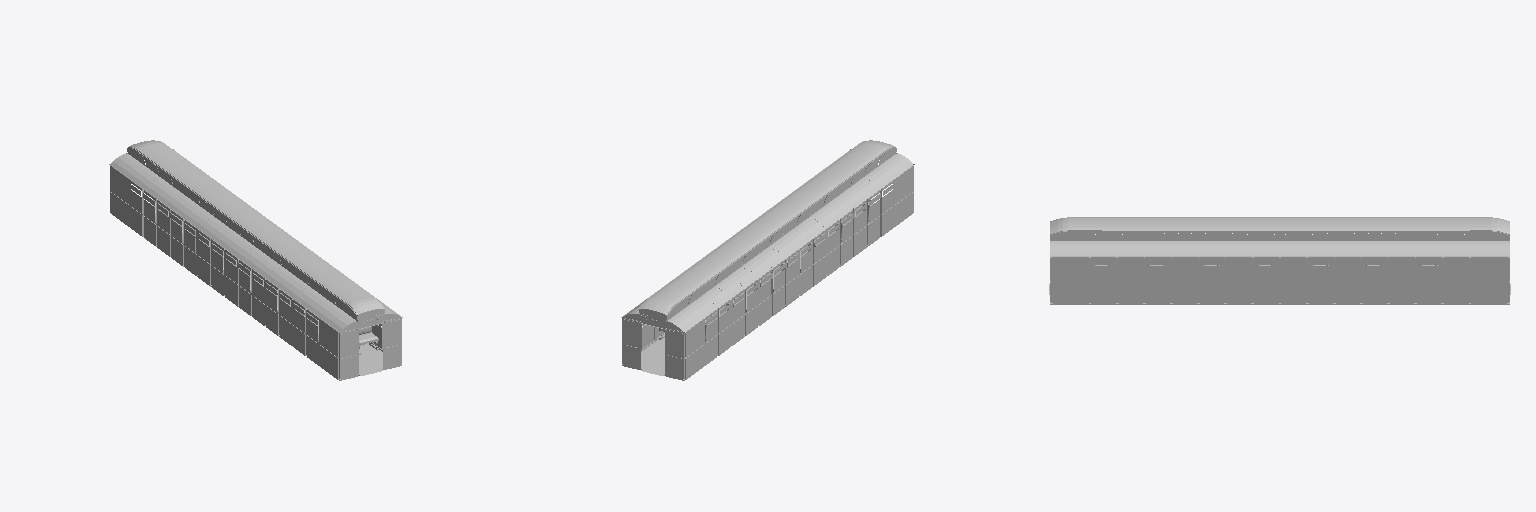
File: vitres_wagon.obj
3 renders of one model, left to right at view 1: azimuth 30°, elevation 25°; view 2: azimuth 150°, elevation 25°; view 3: azimuth 270°, elevation 25°, orthographic.
Parts seen in each view (by area): view 1: Wagon_Interior_0, Wagon_vitre_0; view 2: Wagon_Interior_0, Wagon_vitre_0; view 3: Wagon_Interior_0, Wagon_vitre_0.
Part boxes in pixels (x1,y1,x2,y2): Wagon_Interior_0: (109,140,402,380); Wagon_vitre_0: (130,153,381,341); Wagon_Interior_0: (621,140,914,380); Wagon_vitre_0: (642,153,893,341); Wagon_Interior_0: (1049,217,1510,304); Wagon_vitre_0: (1065,232,1494,280).
Bounding box in the file's own units: 2.74 × 2.7 × 16.76.